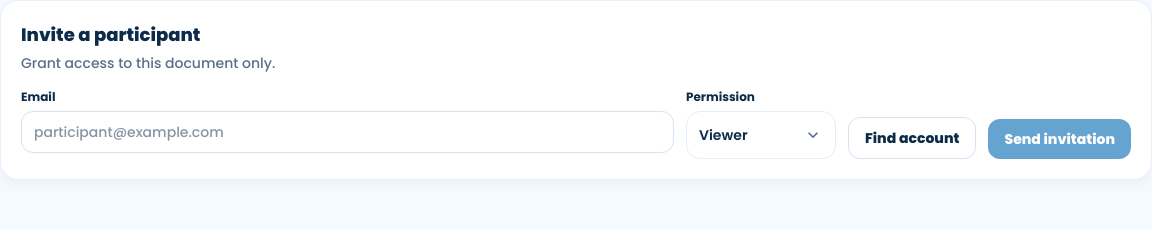
InviteParticipantForm account lookup › explains rate limits as retryable lookup errors
This screenshot has width=1152, height=229.
Type "person@example.com" into the field labelled "Email" at x=348, y=132, box [21,111,674,153]
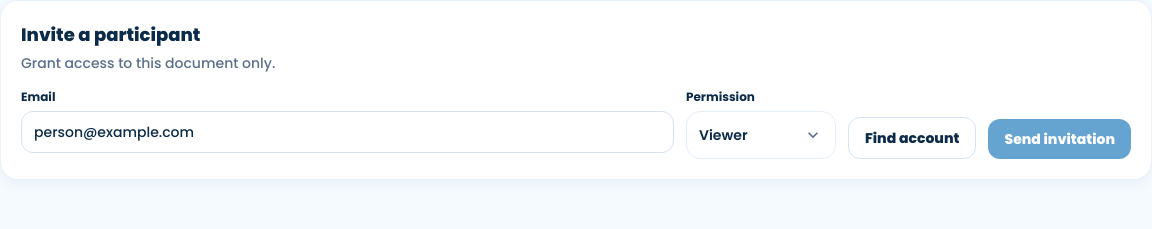
Click the button "Find account" at x=912, y=138, box [848,117,976,159]
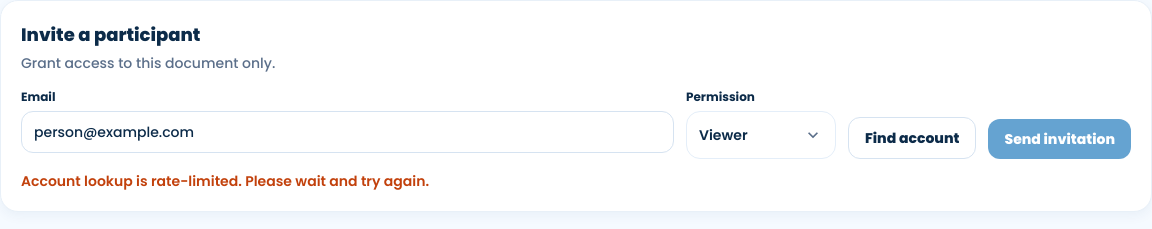
Check: the text "Account lookup is rate-limited. Please wait and try again." is shown, box [21,171,429,191]
